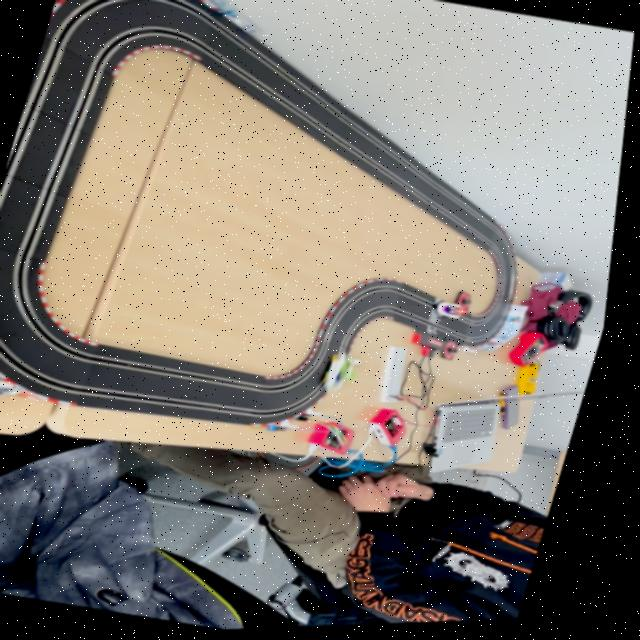mario: (436, 302, 479, 329)
yoshi: (322, 351, 373, 404)
